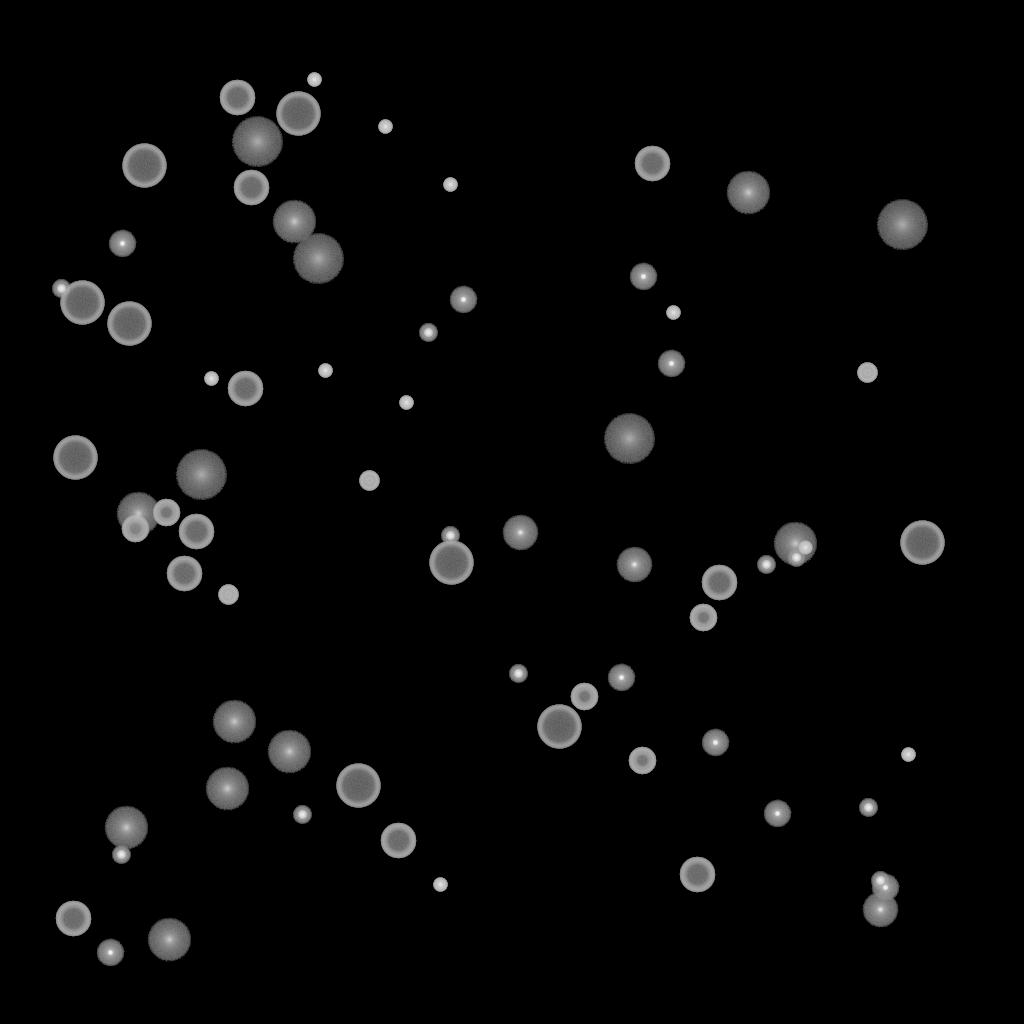depth:-10: (449, 286, 477, 314), (871, 874, 899, 902), (657, 350, 685, 378), (607, 664, 635, 692), (96, 939, 124, 967), (629, 263, 657, 291), (701, 729, 729, 757), (763, 800, 791, 828), (108, 230, 136, 258)
depth:-20: (871, 872, 889, 890), (509, 665, 527, 683), (293, 806, 311, 824), (859, 799, 877, 817), (419, 324, 437, 342), (787, 549, 805, 567), (757, 556, 775, 574), (112, 846, 130, 864), (441, 527, 459, 545), (52, 280, 70, 298)
depth:-30: (798, 541, 812, 555), (399, 396, 413, 410), (318, 364, 332, 378), (433, 878, 447, 892), (204, 372, 218, 386), (901, 748, 915, 762), (378, 120, 392, 134), (307, 73, 321, 87), (443, 178, 457, 192), (666, 306, 680, 320)
depth:-40: (359, 471, 379, 491), (218, 585, 238, 605), (857, 363, 877, 383)
depth:-50: (689, 604, 717, 632), (121, 515, 149, 543), (570, 683, 598, 711), (628, 747, 656, 775), (152, 499, 180, 527)
depth:-60: (701, 565, 737, 601), (233, 170, 269, 206), (380, 823, 416, 859), (166, 556, 202, 592), (178, 514, 214, 550), (55, 901, 91, 937), (679, 857, 715, 893), (634, 146, 670, 182), (227, 371, 263, 407), (219, 80, 255, 116)
depth:-70: (537, 705, 581, 749), (276, 92, 320, 136), (53, 436, 97, 480), (107, 302, 151, 346), (122, 144, 166, 188), (900, 521, 944, 565), (60, 281, 104, 325), (336, 764, 380, 808), (429, 541, 473, 585)
depth:0: (862, 892, 898, 928), (502, 515, 538, 551), (616, 547, 652, 583)
depth:10: (116, 492, 160, 536), (773, 522, 817, 566), (726, 171, 770, 215), (272, 200, 316, 244), (212, 700, 256, 744), (205, 767, 249, 811), (147, 918, 191, 962), (267, 730, 311, 774), (104, 806, 148, 850)
depth:20: (292, 234, 344, 284), (231, 117, 283, 167), (603, 414, 655, 464), (175, 450, 227, 500), (876, 200, 928, 250)
